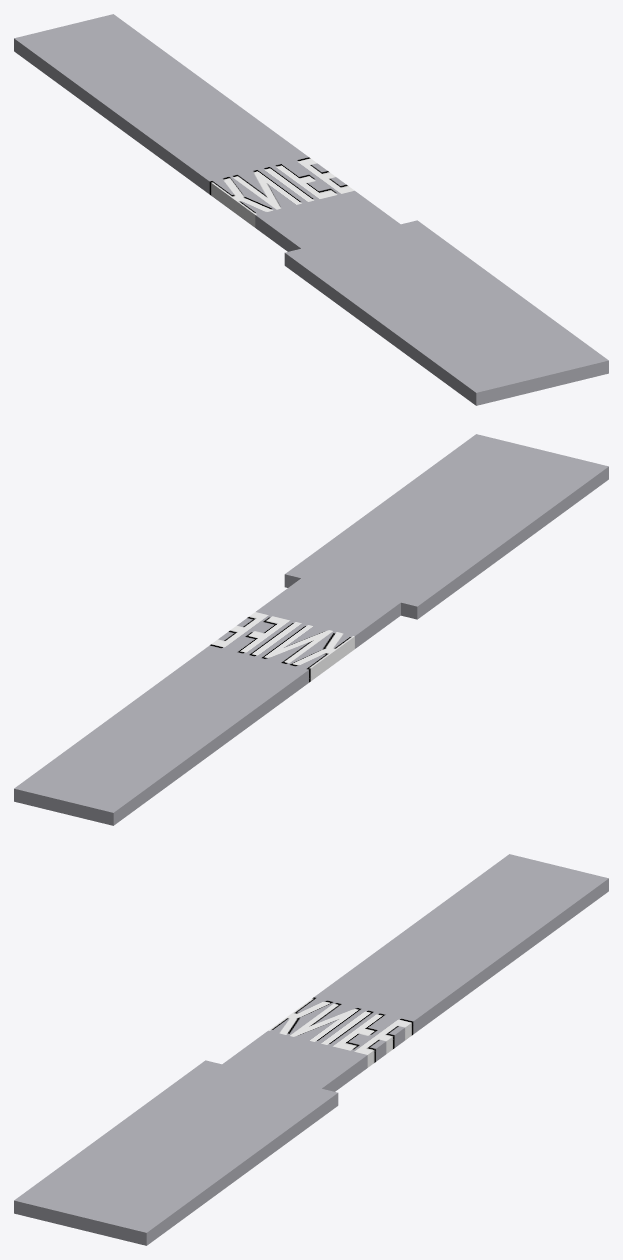
File: knife.obj
The picture shows the model from 3 angles, top to bottom: view 1: azimuth 30°, elevation 25°; view 2: azimuth 150°, elevation 25°; view 3: azimuth 330°, elevation 25°; orthographic projection.
Visible parts, largest first — view 1: knife; view 2: knife; view 3: knife.
Part boxes in pixels (x1,y1,x2,y2): knife: [14, 14, 608, 405]; knife: [14, 434, 608, 825]; knife: [14, 854, 608, 1245].
Size of the model in its own units: 0.032 by 0.003 by 0.2.
1 material, 1 textured.
